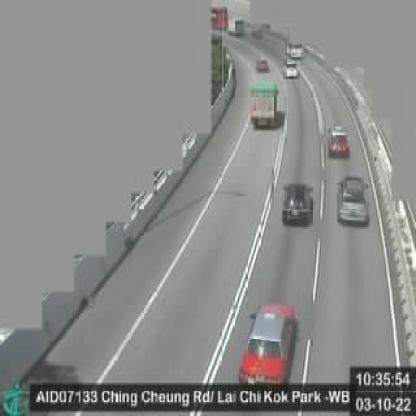Car: (239, 302, 295, 381), (337, 175, 368, 224), (280, 182, 310, 222), (329, 125, 348, 154), (282, 59, 299, 78)
Truck: (249, 80, 274, 128)
